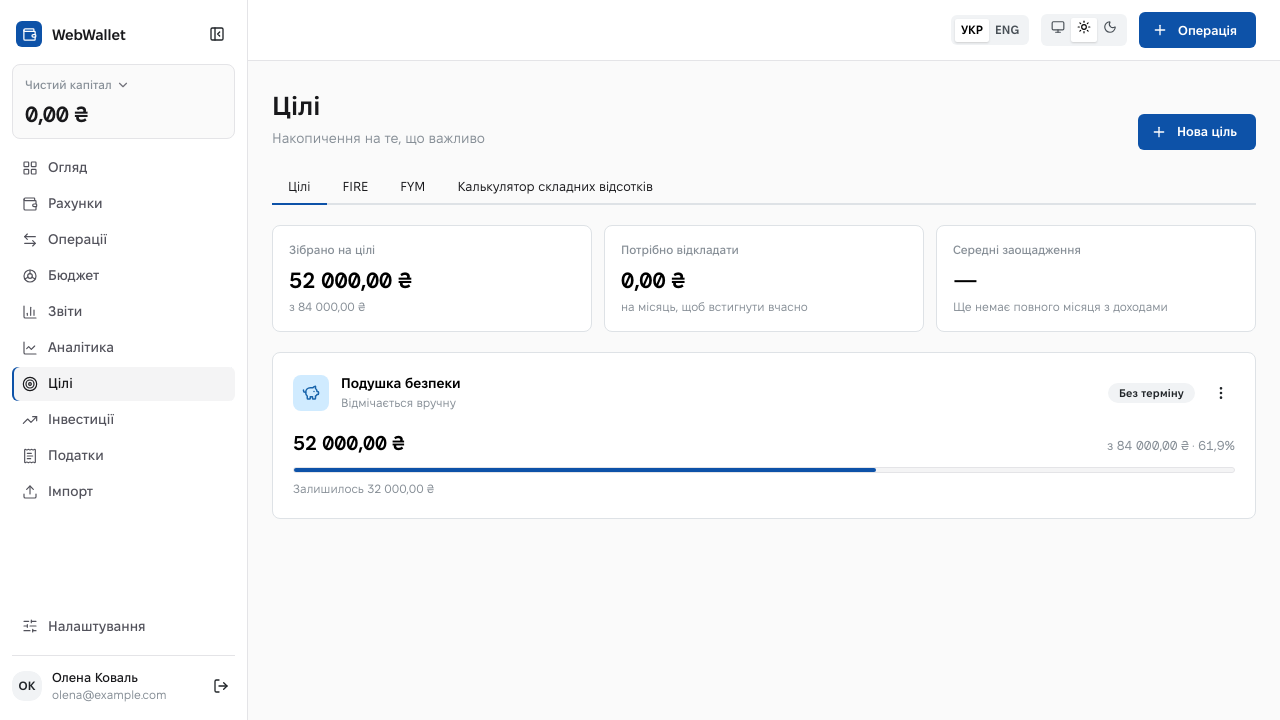
Scenario: adds money to a goal kept by hand
Click the button named "Дії з ціллю": (1221, 393) [1207,379,1235,407]
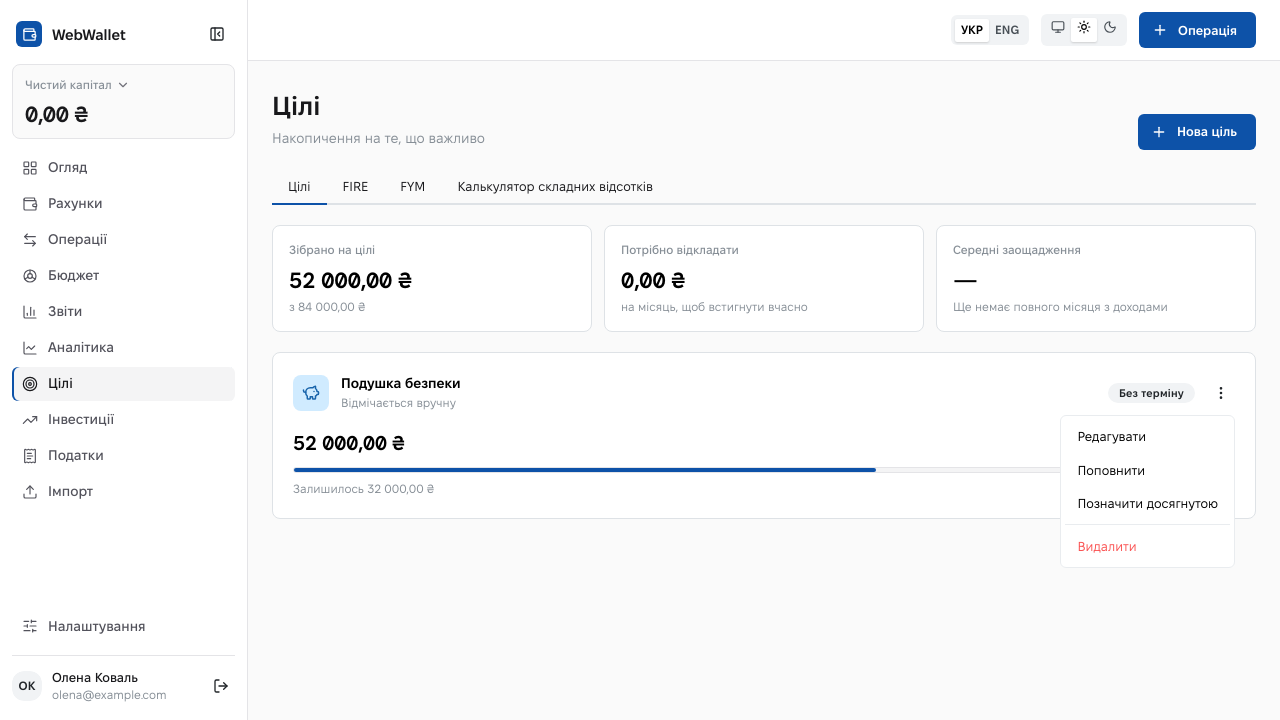
Click the menu item "Поповнити": (1148, 470) [1065,453,1230,487]
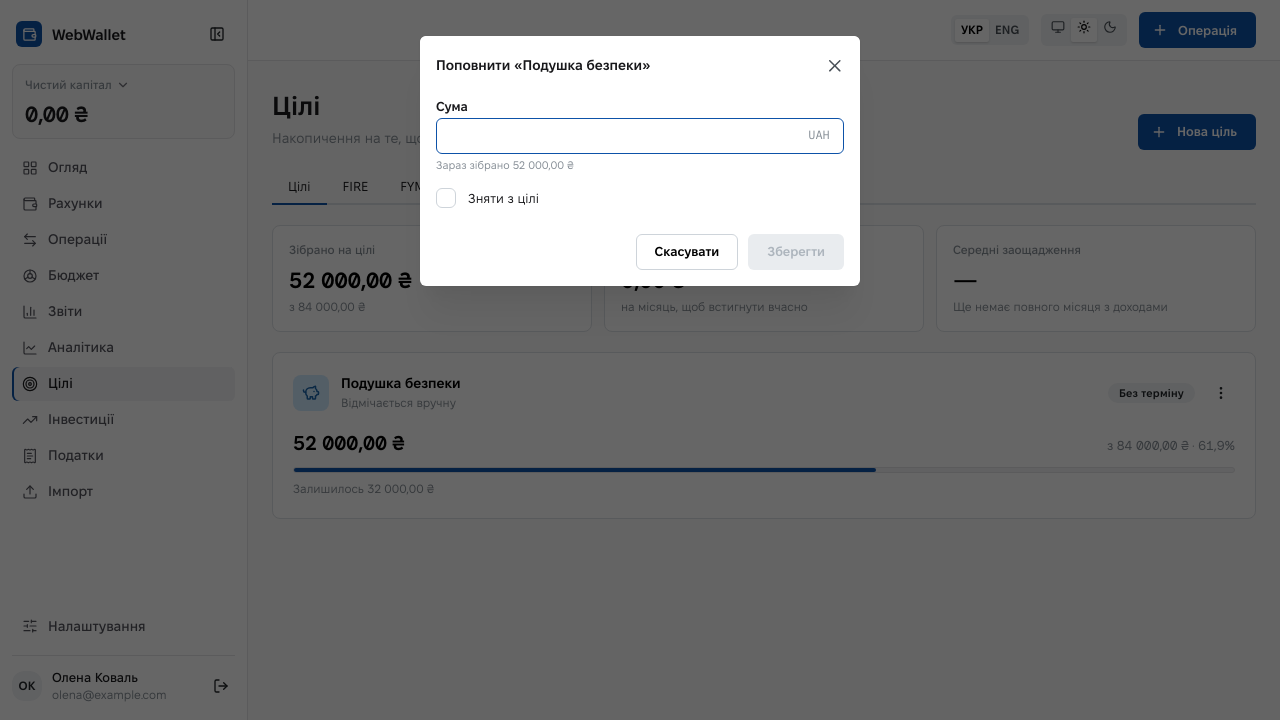
In the field labelled "Сума": (640, 136) [436,118,844,154], type "4000"
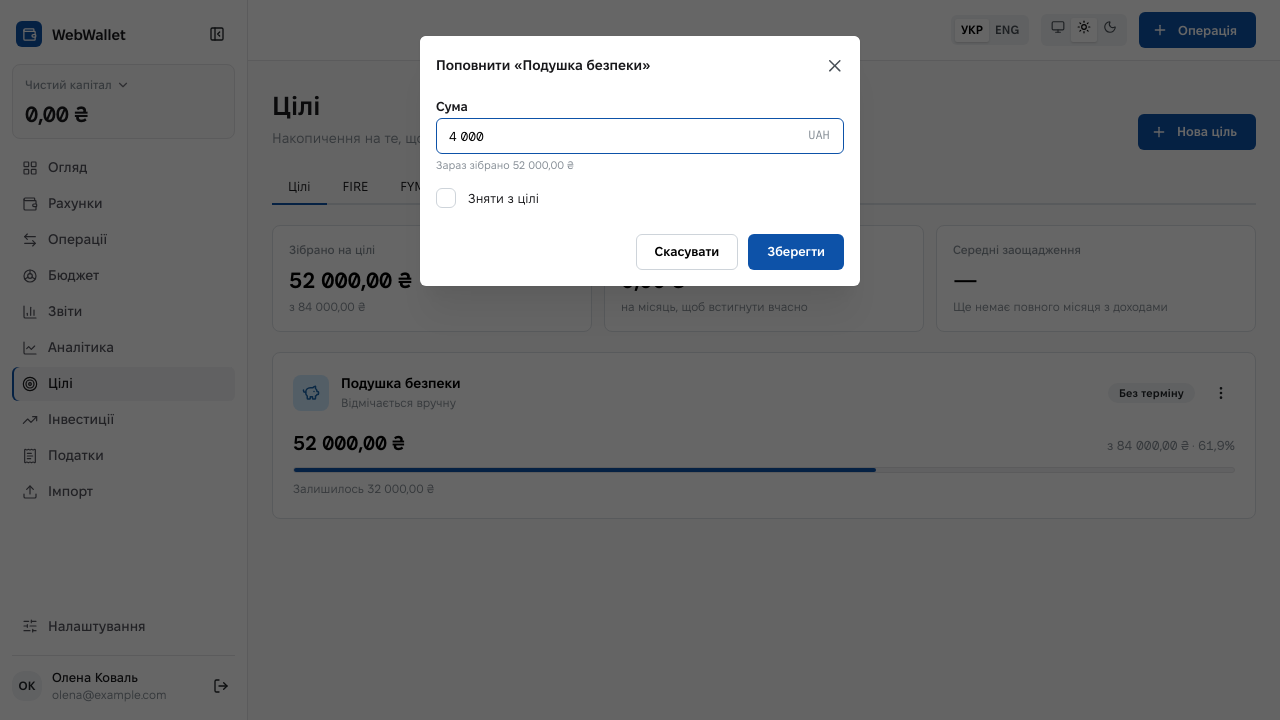
Click the button "Зберегти": (796, 252) [748,234,844,270]
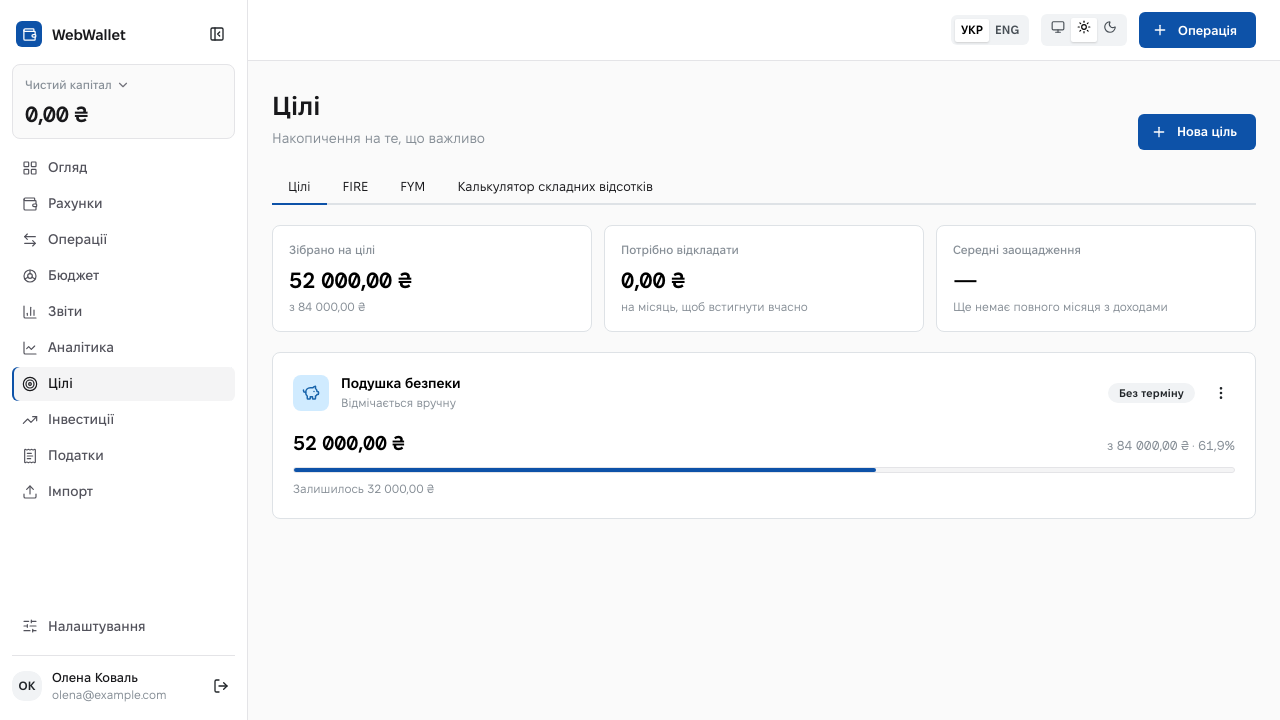
Result: the dialog is gone
